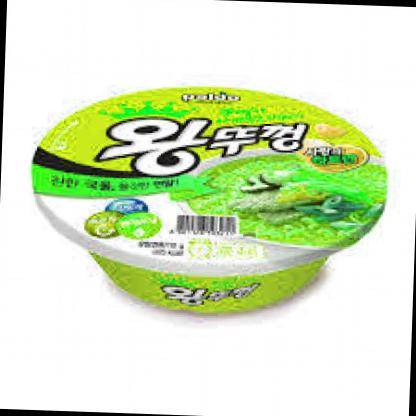Ramen: (8, 74, 403, 329)
